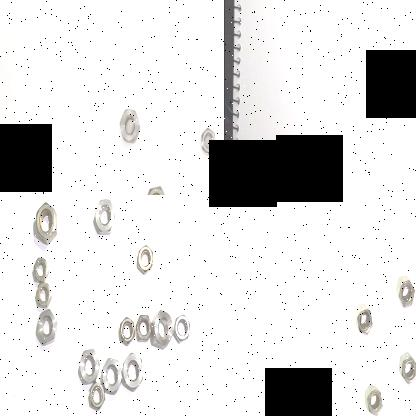NUTS: (32, 198, 60, 247), (150, 306, 178, 354), (32, 307, 61, 349), (74, 342, 100, 388), (120, 352, 146, 396), (117, 104, 141, 148), (91, 196, 117, 236), (98, 355, 122, 398), (133, 238, 155, 276), (32, 274, 55, 310), (114, 312, 136, 347), (172, 311, 192, 349), (133, 312, 153, 348), (30, 252, 50, 286), (396, 275, 414, 312), (363, 385, 384, 416), (354, 304, 374, 336), (399, 351, 416, 388), (198, 126, 216, 154), (86, 380, 104, 408), (142, 183, 168, 195)
